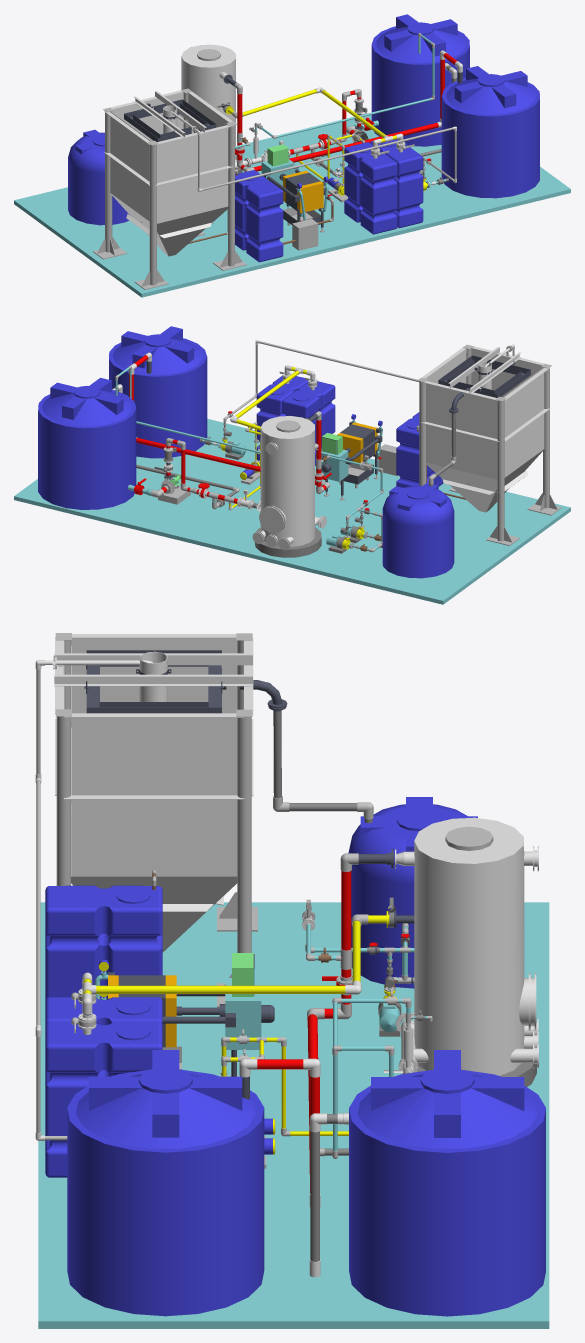
The model's file is tanks.glb.
The picture shows the model from 3 angles, top to bottom: view 1: azimuth 30°, elevation 25°; view 2: azimuth 150°, elevation 25°; view 3: azimuth 270°, elevation 25°; orthographic projection. The views are drawn at different scales.
Parts seen in each view (by area): view 1: Node; view 2: Node; view 3: Node.
Boxes of the visible parts, x1,y1,x2,y2 form: Node: (14,14,570,297); Node: (14,326,570,604); Node: (35,633,549,1328).
Bounding box in the file's own units: 1098 × 378 × 569.
